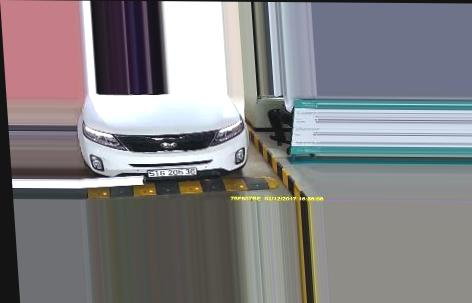License_Plate: (146, 166, 199, 179)
